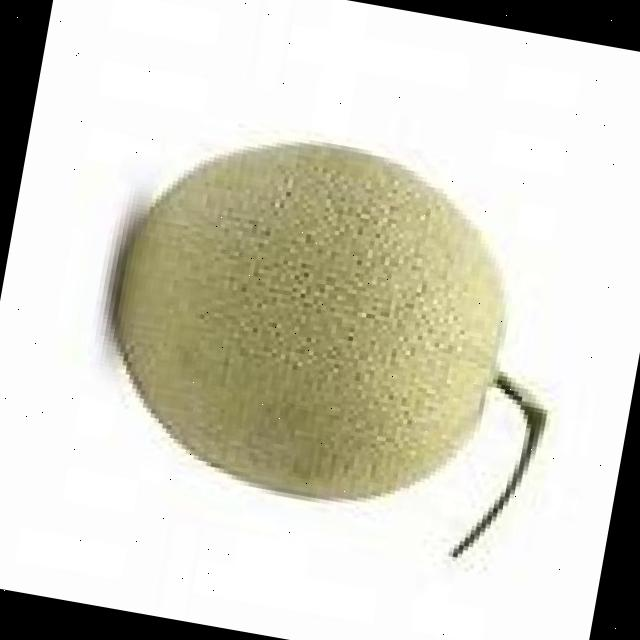Hami Melon: (85, 112, 532, 528)
